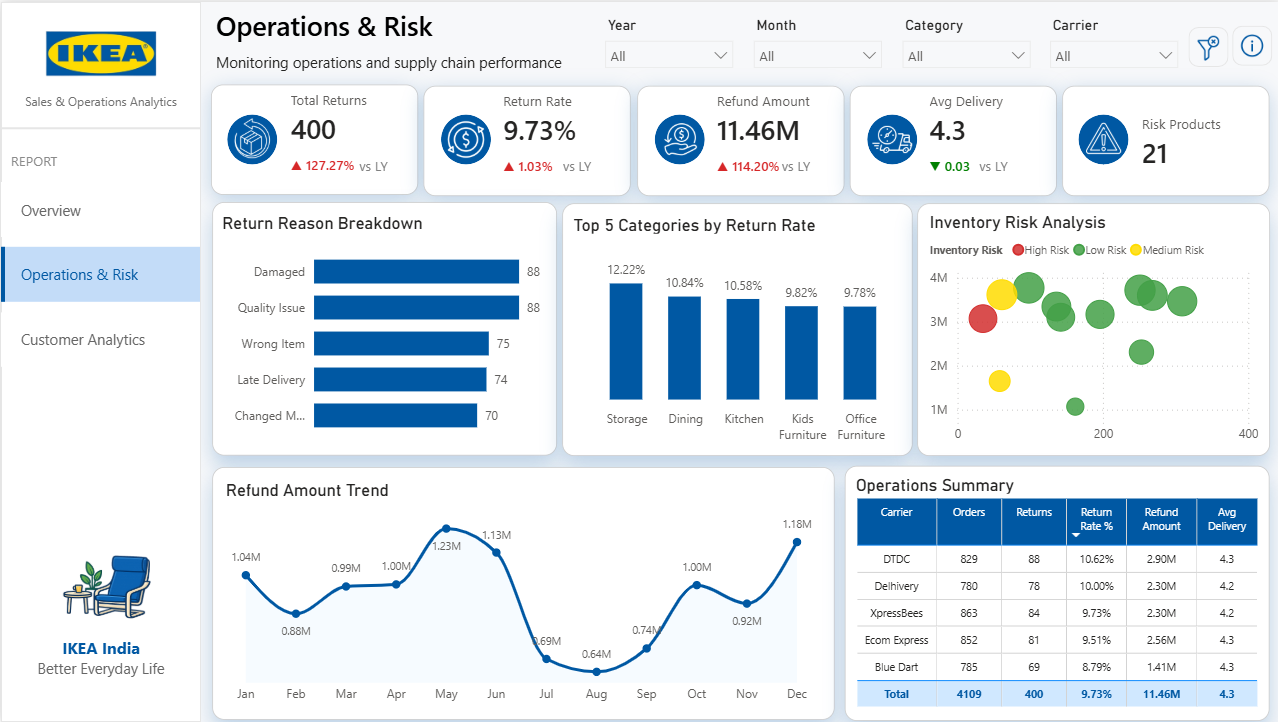

Layout of this report page (visuals, bound fields, positions):
{"tool":"powerbi","page":{"name":"Operations & Risk","canvas":[1280,720],"ordinal":1},"visuals":[{"type":"shape","title":"Menu BG","box":[0,0,200,720],"z":0,"group":"g17"},{"type":"textbox","box":[210,0,235,50],"z":0},{"type":"image","title":"IKEA LOGO","box":[30,10,140,80],"z":0,"group":"g3"},{"type":"shape","box":[1231.4,24,40,40],"z":0,"group":"g10"},{"type":"shape","box":[1187.7,25,40,40],"z":0,"group":"g9"},{"type":"cardVisual","fields":{"Data":["_Measures.Total Returns"]},"box":[210,82.5,207.5,110],"z":0,"group":"g1"},{"type":"pageNavigator","title":"Menu Buttons","box":[0,180,199,187.5],"z":0,"group":"g6"},{"type":"image","title":"IKEA Illustration","box":[0,483,200,200],"z":0,"group":"g2"},{"type":"textbox","box":[210,45,356.2,30],"z":1000},{"type":"textbox","box":[0,85,200,30],"z":1000,"group":"g3"},{"type":"shape","box":[226.2,112.5,50,50],"z":1000,"group":"g1"},{"type":"shape","title":"Divider","box":[0,115,200,22.5],"z":1000,"group":"g17"},{"type":"textbox","title":"REPORT","box":[5,145,65,36.2],"z":1000,"group":"g6"},{"type":"shape","box":[561.2,201.2,350,252.5],"z":1000,"group":"g12"},{"type":"textbox","title":"Tag Line","box":[8.8,630,182.5,62.5],"z":1000,"group":"g2"},{"type":"group","id":"g1","title":"Group 2","box":[210,82.5,207.5,110],"z":2000},{"type":"shape","box":[352.5,152.5,40,20],"z":2000,"group":"g1"},{"type":"shape","box":[916.2,201.2,352.5,252.5],"z":2000,"group":"g13"},{"type":"group","id":"g2","title":"IKEA Illustration & TagLine","box":[0,483,200,209.5],"z":2000,"group":"g17"},{"type":"group","id":"g3","title":"IKEA LOGO","box":[0,10,200,105],"z":3000,"group":"g17"},{"type":"group","id":"g4","title":"Group 3","box":[422.8,83.5,207.5,110],"z":3000},{"type":"image","box":[231.2,116.3,40,40],"z":3000,"group":"g1"},{"type":"group","id":"g5","title":"Group 4","box":[635.6,83.5,207.5,110],"z":4000},{"type":"group","id":"g6","title":"Report Section","box":[0,145,199,222.5],"z":4000,"group":"g17"},{"type":"shape","box":[211.2,200,345,253.8],"z":4000,"group":"g14"},{"type":"shape","box":[843.8,463.8,425,255],"z":4000,"group":"g16"},{"type":"group","id":"g7","title":"Group 5","box":[848.8,83.5,207.5,110],"z":5000},{"type":"group","id":"g8","title":"Group 6","box":[1061.2,83.5,207.5,110],"z":6000},{"type":"slicer","fields":{"Values":["Calendar.Month"]},"box":[742.2,10,148.8,65],"z":7000},{"type":"shape","box":[211.2,465,622.5,252.5],"z":7000,"group":"g15"},{"type":"slicer","fields":{"Values":["Calendar.Year"]},"box":[593.8,10,148.8,65],"z":8000},{"type":"slicer","fields":{"Values":["Products.Category"]},"box":[890.6,10,148.8,65],"z":9000},{"type":"slicer","fields":{"Values":["Deliveries.Carrier"]},"box":[1039.1,10,148.8,65],"z":10000},{"type":"group","id":"g9","title":"Group 1","box":[1187.7,25,40,40],"z":11000},{"type":"group","id":"g10","title":"Group 12","box":[1231.4,24,40,40],"z":12000},{"type":"cardVisual","fields":{"Data":["_Measures.Return Rate %"]},"box":[422.8,83.5,207.5,110],"z":12000,"group":"g4"},{"type":"cardVisual","fields":{"Data":["_Measures.Total Refund Amount"]},"box":[635.6,83.5,207.5,110],"z":13000,"group":"g5"},{"type":"group","id":"g11","title":"Group 8","box":[211.2,200,345,253.8],"z":13000},{"type":"cardVisual","fields":{"Data":["_Measures.Avg Delivery Days"]},"box":[848.8,83.5,207.5,110],"z":14000,"group":"g7"},{"type":"group","id":"g12","title":"Group 9","box":[561.2,201.2,350,252.5],"z":14000},{"type":"cardVisual","fields":{"Data":["_Measures.Inventory Risk Products"]},"box":[1061.2,83.5,207.5,110],"z":15000,"group":"g8"},{"type":"group","id":"g13","title":"Group 10","box":[916.2,201.2,352.5,252.5],"z":15000},{"type":"group","id":"g14","title":"Group 7","box":[211.2,200,345,253.8],"z":16000,"group":"g11"},{"type":"group","id":"g15","title":"Group 11","box":[211.2,465,622.5,252.5],"z":16000},{"type":"group","id":"g16","title":"Group 13","box":[843.8,463.8,425,255],"z":17000},{"type":"lineChart","title":"Refund Amount Trend","fields":{"Category":["Calendar.Month"],"Y":["_Measures.Total Refund Amount"]},"box":[220,477.5,601.2,232.5],"z":17000,"group":"g15"},{"type":"group","id":"g17","title":"Group 13","box":[0,0,200,720],"z":18000},{"type":"clusteredBarChart","title":"Return Reason Breakdown","fields":{"Category":["Returns.Return_Reason"],"Y":["_Measures.Return Count"]},"box":[216.2,211.2,335,235],"z":18000,"group":"g11"},{"type":"clusteredColumnChart","title":"Top 5 Categories by Return Rate","fields":{"Category":["Products.Category"],"Y":["_Measures.Return Rate %"]},"box":[567.4,212.4,338.8,236.2],"z":19000,"group":"g12"},{"type":"scatterChart","title":"Inventory Risk Analysis","fields":{"X":["_Measures.Total Stock"],"Y":["_Measures.Total Revenue"],"Series":["Products.Inventory Risk Level"],"Size":["_Measures.Total Revenue"],"Category":["Products.Product_Name"]},"box":[923.7,210,338.8,240],"z":20000,"group":"g13"},{"type":"shape","box":[556.7,152.3,39.8,20.5],"z":21000,"group":"g4"},{"type":"tableEx","title":"Operations Summary","fields":{"Values":["Deliveries.Carrier","_Measures.Total Orders","_Measures.Total Returns","_Measures.Return Rate %","_Measures.Total Refund Amount","_Measures.Avg Delivery Days"]},"box":[850,472.6,412.5,240],"z":21000,"group":"g16"},{"type":"shape","box":[774.4,152.3,40,20],"z":22000,"group":"g5"},{"type":"image","box":[1195.6,33.6,25,25],"z":22001,"group":"g9"},{"type":"image","box":[1239.2,31.6,25,25],"z":22002,"group":"g10"},{"type":"shape","box":[972.6,152.3,40,20],"z":23000,"group":"g7"},{"type":"shape","box":[440.6,112.5,50,50],"z":25000,"group":"g4"},{"type":"shape","box":[652.5,112.5,50,50],"z":26000,"group":"g5"},{"type":"shape","box":[865.7,112.5,50,50],"z":27000,"group":"g7"},{"type":"shape","box":[1077.4,112.5,50,50],"z":28000,"group":"g8"},{"type":"image","box":[445.3,117.3,40,40],"z":30000,"group":"g4"},{"type":"image","box":[659.4,117.3,40,40],"z":31000,"group":"g5"},{"type":"image","box":[871.3,117.3,40,40],"z":32000,"group":"g7"},{"type":"image","box":[1085,118.5,35,35],"z":33000,"group":"g8"}]}

Visuals, with their boxes in screenshot pixels (x1, y1, x2, y2), scaled from the page's 1280x720 canvas onto the 1278x722 screenshot:
"Menu BG" shape: 0 0 200 721
textbox: 210 0 444 50
"IKEA LOGO" image: 30 10 170 90
shape: 1229 24 1269 64
shape: 1186 25 1226 65
cardVisual - _Measures.Total Returns: 210 83 417 193
"Menu Buttons" pageNavigator: 0 180 199 369
"IKEA Illustration" image: 0 484 200 685
textbox: 210 45 565 75
textbox: 0 85 200 115
shape: 226 113 276 163
"Divider" shape: 0 115 200 138
"REPORT" textbox: 5 145 70 182
shape: 560 202 910 455
"Tag Line" textbox: 9 632 191 694
"Group 2" group: 210 83 417 193
shape: 352 153 392 173
shape: 915 202 1267 455
"IKEA Illustration & TagLine" group: 0 484 200 694
"IKEA LOGO" group: 0 10 200 115
"Group 3" group: 422 84 629 194
image: 231 117 271 157
"Group 4" group: 635 84 842 194
"Report Section" group: 0 145 199 369
shape: 211 201 555 455
shape: 842 465 1267 721
"Group 5" group: 847 84 1055 194
"Group 6" group: 1060 84 1267 194
slicer - Calendar.Month: 741 10 890 75
shape: 211 466 832 719
slicer - Calendar.Year: 593 10 741 75
slicer - Products.Category: 889 10 1038 75
slicer - Deliveries.Carrier: 1037 10 1186 75
"Group 1" group: 1186 25 1226 65
"Group 12" group: 1229 24 1269 64
cardVisual - _Measures.Return Rate %: 422 84 629 194
cardVisual - _Measures.Total Refund Amount: 635 84 842 194
"Group 8" group: 211 201 555 455
cardVisual - _Measures.Avg Delivery Days: 847 84 1055 194
"Group 9" group: 560 202 910 455
cardVisual - _Measures.Inventory Risk Products: 1060 84 1267 194
"Group 10" group: 915 202 1267 455
"Group 7" group: 211 201 555 455
"Group 11" group: 211 466 832 719
"Group 13" group: 842 465 1267 721
"Refund Amount Trend" lineChart: 220 479 820 712
"Group 13" group: 0 0 200 721
"Return Reason Breakdown" clusteredBarChart: 216 212 550 447
"Top 5 Categories by Return Rate" clusteredColumnChart: 567 213 905 450
"Inventory Risk Analysis" scatterChart: 922 211 1261 451
shape: 556 153 596 173
"Operations Summary" tableEx: 849 474 1261 715
shape: 773 153 813 173
image: 1194 34 1219 59
image: 1237 32 1262 57
shape: 971 153 1011 173
shape: 440 113 490 163
shape: 651 113 701 163
shape: 864 113 914 163
shape: 1076 113 1126 163
image: 445 118 485 158
image: 658 118 698 158
image: 870 118 910 158
image: 1083 119 1118 154
